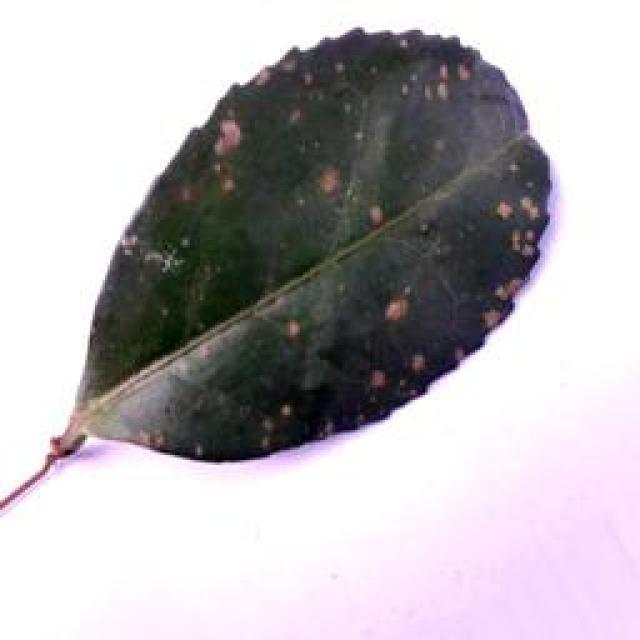Algal Leaf Spot: (74, 16, 561, 478)
